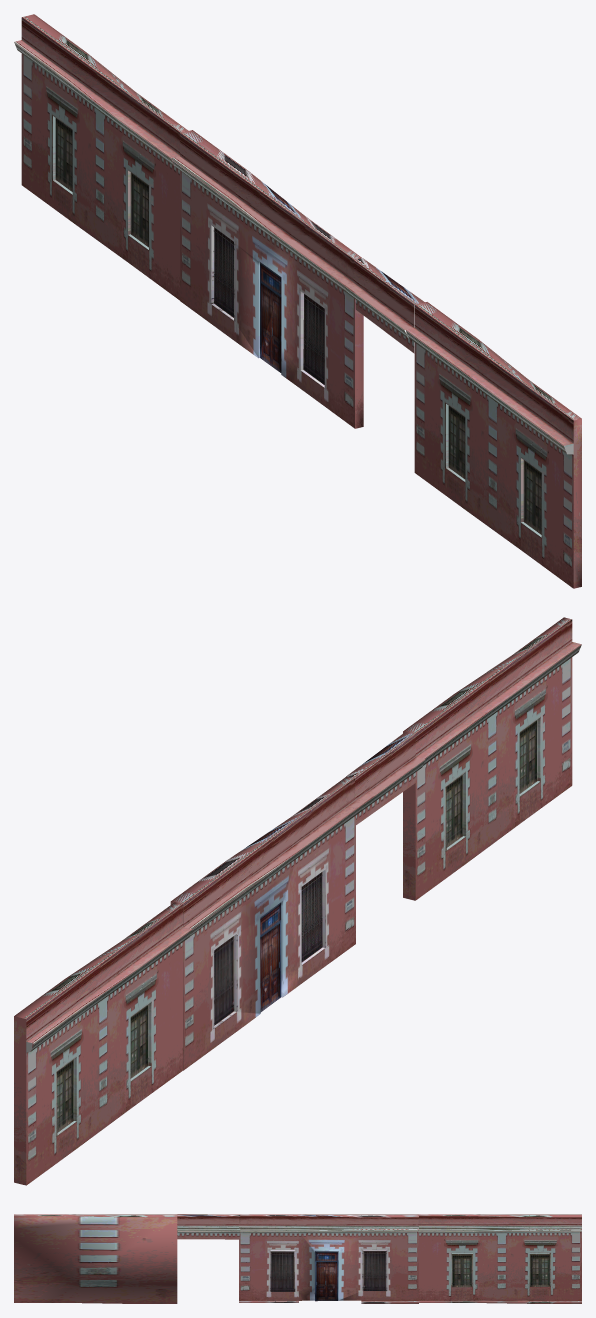
The model's file is Pared_Colonial.fbx.
3 renders of one model, top to bottom at view 1: azimuth 30°, elevation 25°; view 2: azimuth 150°, elevation 25°; view 3: azimuth 270°, elevation 25°, orthographic. The views are drawn at different scales.
Parts seen in each view (by area): view 1: pared02.005, pared02.003, pared02.001, pared02.004, pared02.002; view 2: pared02.001, pared02.003, pared02.005, pared02.004, pared02.002; view 3: pared02.005, pared02.003, pared02.001, pared02.004, pared02.002.
Part boxes in pixels (<box>): pared02.005: <box>171,130,363,428</box>; pared02.003: <box>405,302,581,588</box>; pared02.001: <box>14,14,188,300</box>; pared02.004: <box>344,258,424,353</box>; pared02.002: <box>260,262,281,372</box>; pared02.001: <box>14,902,192,1185</box>; pared02.003: <box>403,617,581,900</box>; pared02.005: <box>170,776,363,1070</box>; pared02.004: <box>346,732,425,824</box>; pared02.002: <box>260,902,281,1012</box>; pared02.005: <box>239,1214,418,1303</box>; pared02.003: <box>14,1214,177,1303</box>; pared02.001: <box>418,1214,581,1303</box>; pared02.004: <box>177,1214,240,1239</box>; pared02.002: <box>315,1251,338,1301</box>.
Bounding box in the file's own units: 1.8 × 12.74 × 75.8.
